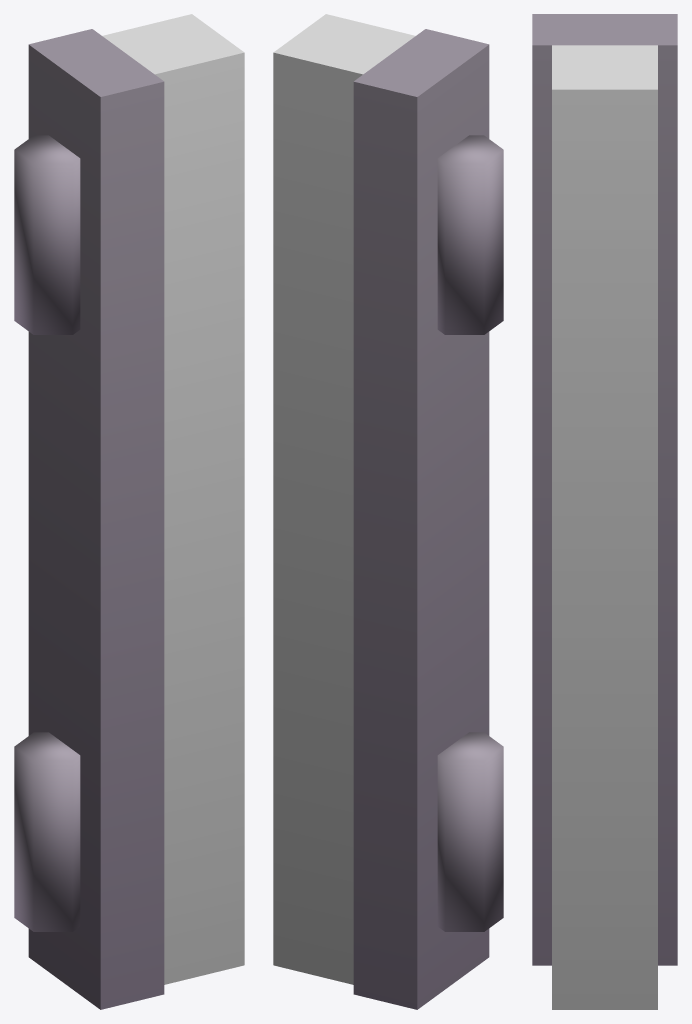
File: wall-3.fbx
3 renders of one model, left to right at view 1: azimuth 30°, elevation 25°; view 2: azimuth 150°, elevation 25°; view 3: azimuth 270°, elevation 25°, orthographic.
Parts seen in each view (by area): view 1: wall-3; view 2: wall-3; view 3: wall-3.
Boxes of the visible parts, x1=… form: wall-3: x1=14, y1=14, x2=244, y2=1009; wall-3: x1=273, y1=14, x2=503, y2=1009; wall-3: x1=532, y1=14, x2=677, y2=1009.
Bounding box in the file's own units: 48.14 × 30.96 × 216.
